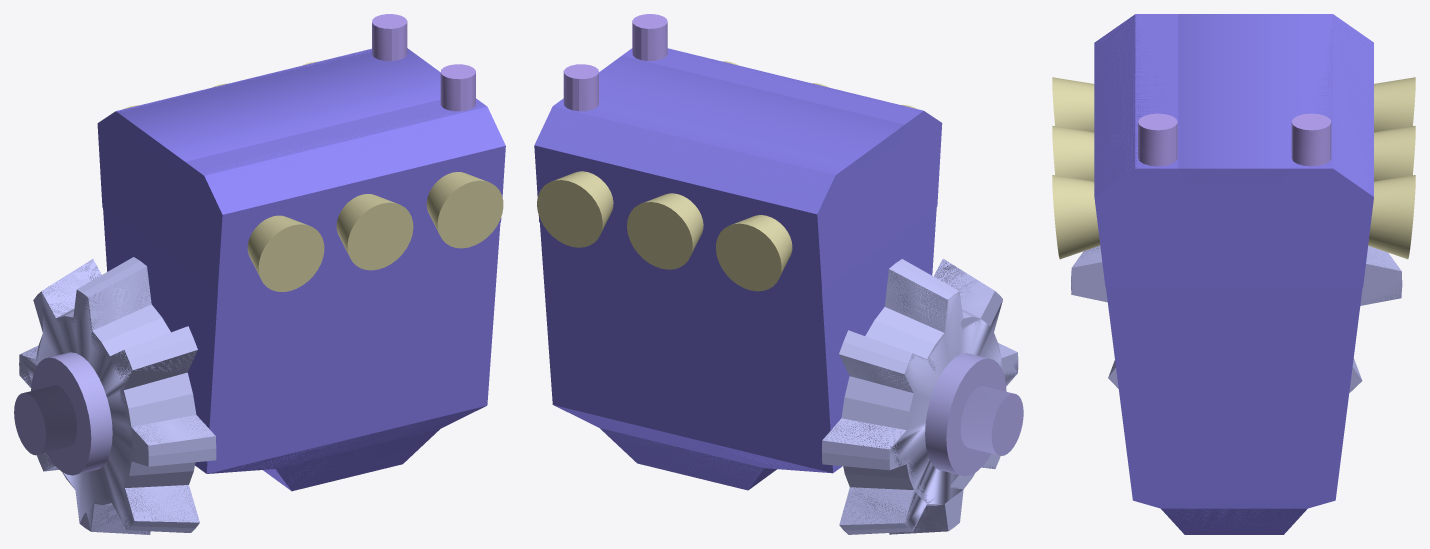
Rendered from motor3D_Gears00.glb.
3 renders of one model, left to right at view 1: azimuth 30°, elevation 25°; view 2: azimuth 150°, elevation 25°; view 3: azimuth 270°, elevation 25°, orthographic. The views are drawn at different scales.
Visible parts, largest first — view 1: Motor, Gear; view 2: Motor, Gear; view 3: Motor, Gear.
Part boxes in pixels (box(x1,y1,x2,y2)): Motor: box(97, 14, 505, 491); Gear: box(14, 257, 216, 534); Motor: box(534, 14, 942, 490); Gear: box(822, 258, 1023, 534); Motor: box(1052, 14, 1415, 534); Gear: box(1071, 246, 1402, 392).
Size of the model in its own units: 2.91 by 2.8 by 1.99.
